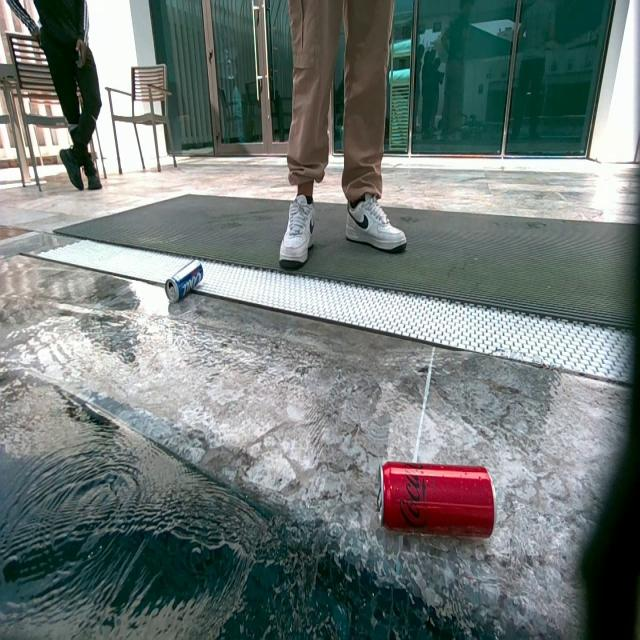Cans: (374, 461, 494, 544), (166, 258, 204, 305)
